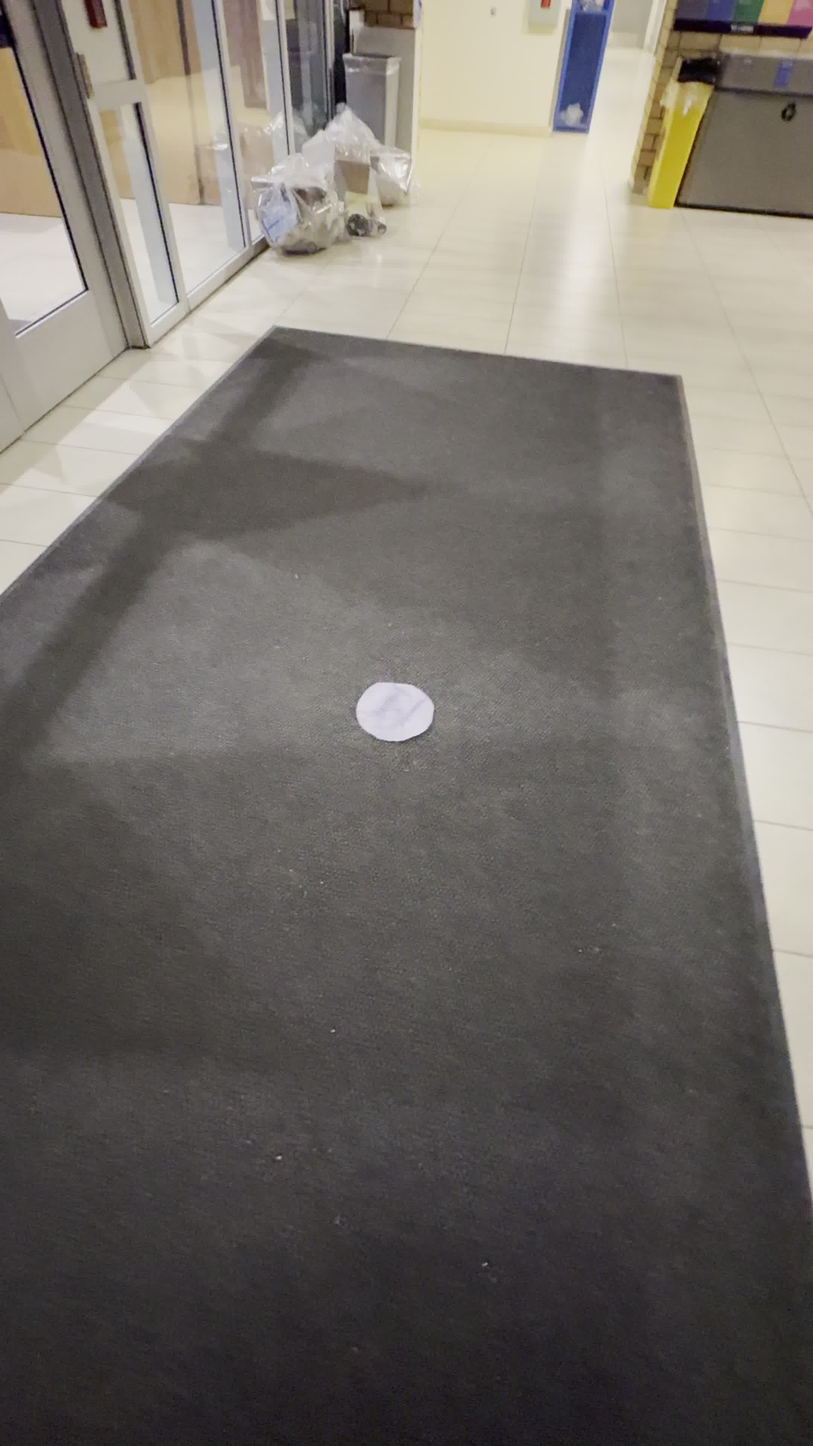Target: (356, 681, 434, 741)
